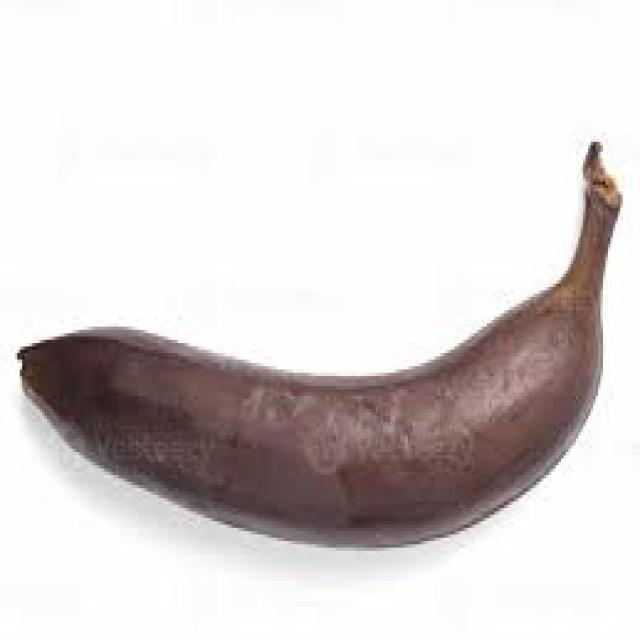Banana: (34, 331, 586, 536)
